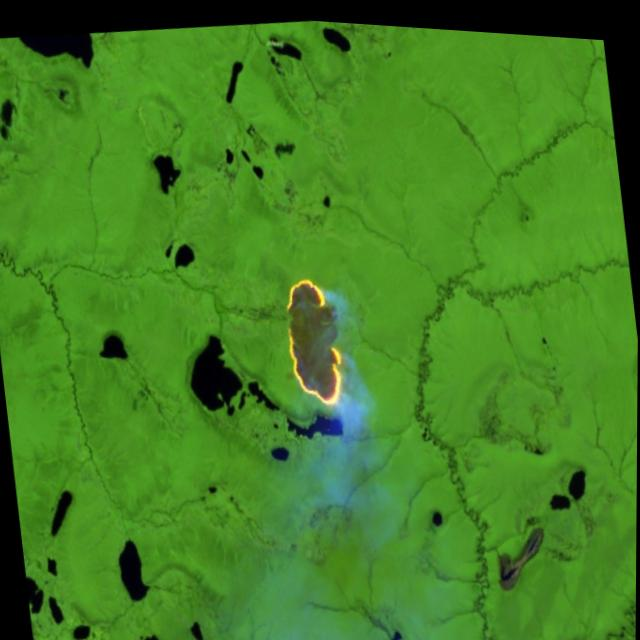fire: (268, 261, 350, 414)
